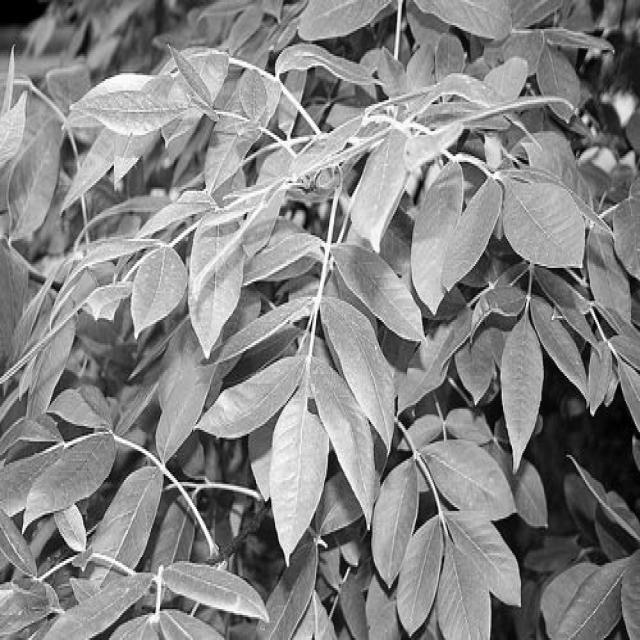Fraxinus latifolia: (62, 17, 630, 580)
